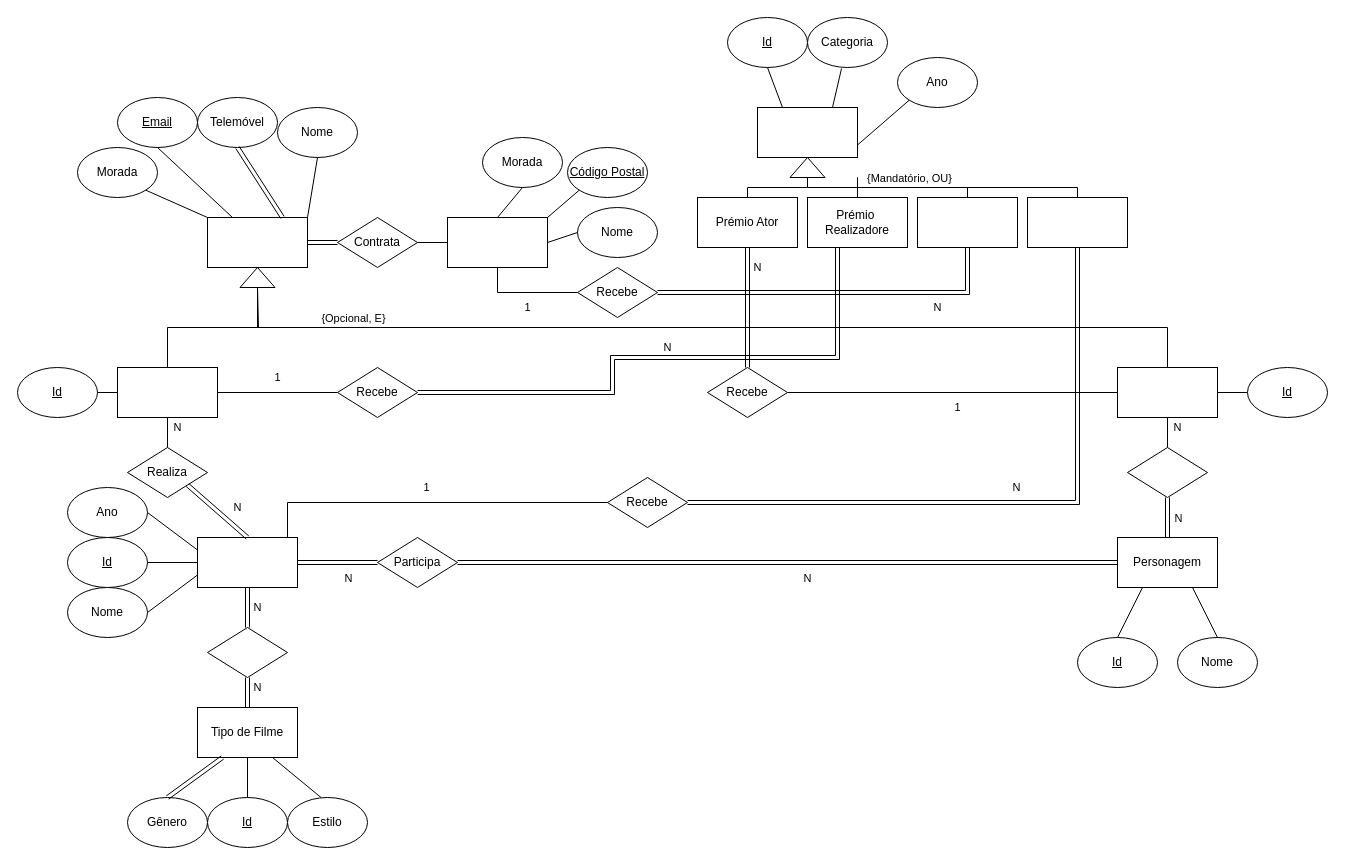
Image size: 1345x865. Some labels were removed from this diagram. Each missing label, with the box of its shape:
Ator: (1116, 366, 1218, 418)
Atua: (1126, 446, 1208, 498)
Estúdio: (446, 216, 548, 268)
Filme: (196, 536, 298, 588)
Pessoa: (206, 216, 308, 268)
Possui: (206, 626, 288, 678)
Prémio: (756, 106, 858, 158)
Prémio Estúdio: (916, 196, 1018, 248)
Prémio Filme: (1026, 196, 1128, 248)
Realizador: (116, 366, 218, 418)
